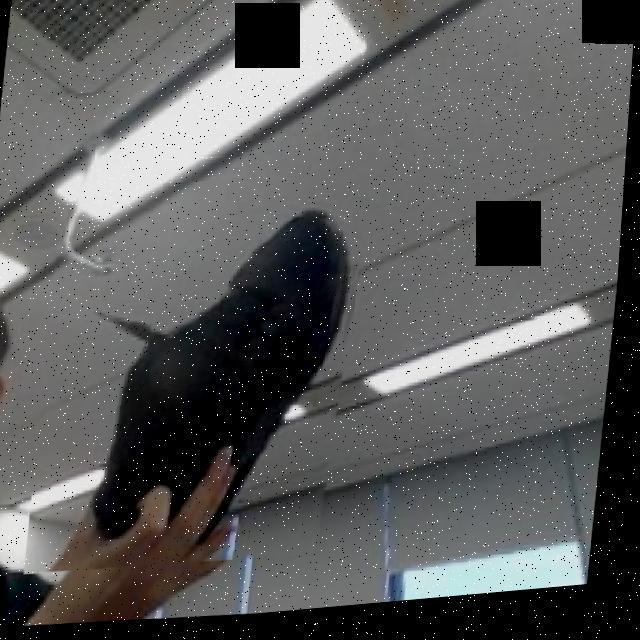shoe: (31, 167, 377, 586)
